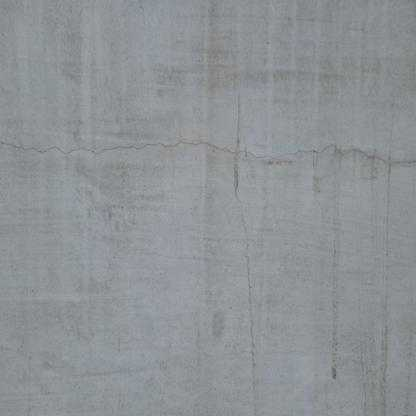crack: (0, 139, 415, 168)
